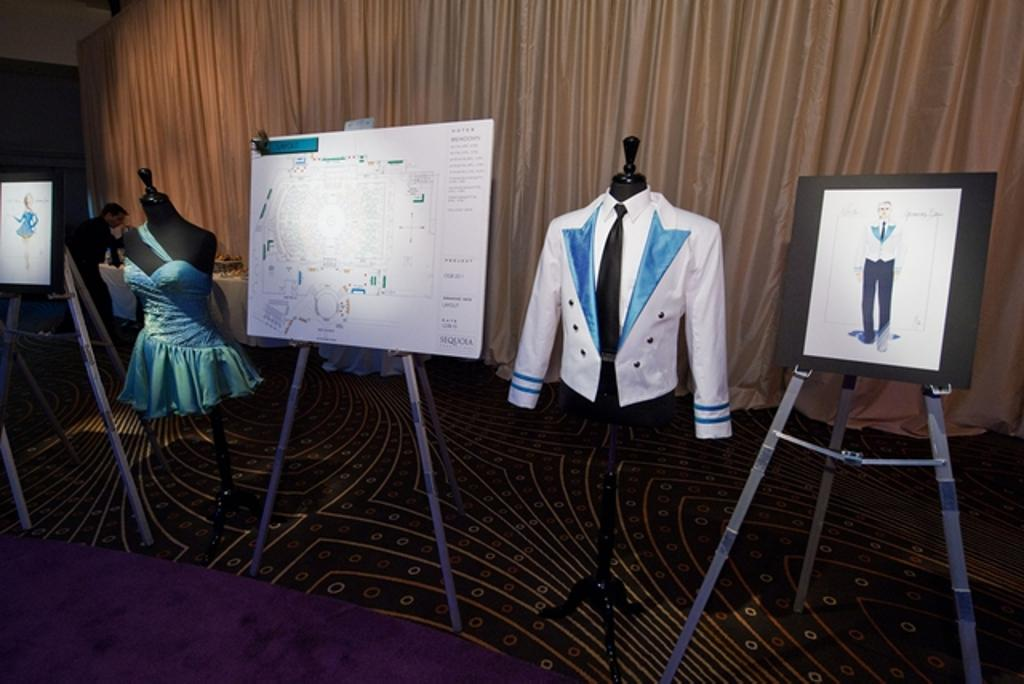face: (879, 205, 890, 217), (24, 199, 30, 207)
